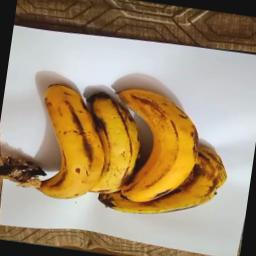Banana Unripe: (0, 67, 242, 232)
